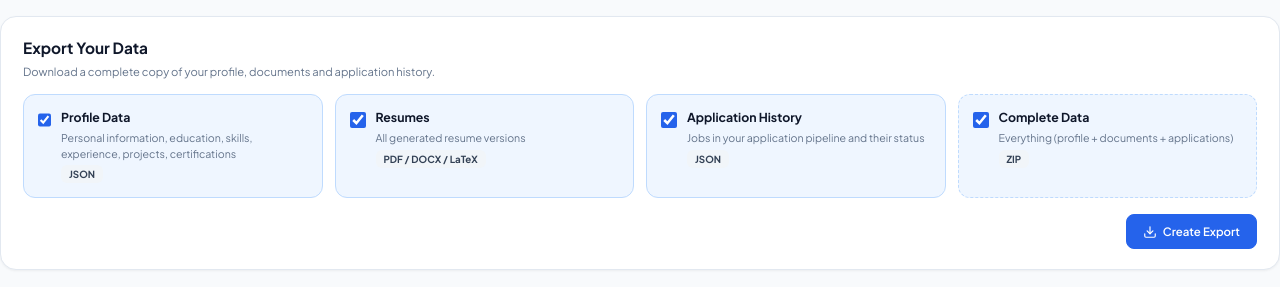
Test: DataExport › sends selected parts and pipeline applications
This screenshot has width=1280, height=287.
Click the checkbox labelled "Profile Data". click: {"x": 44, "y": 120}
box: [38,112,51,128]
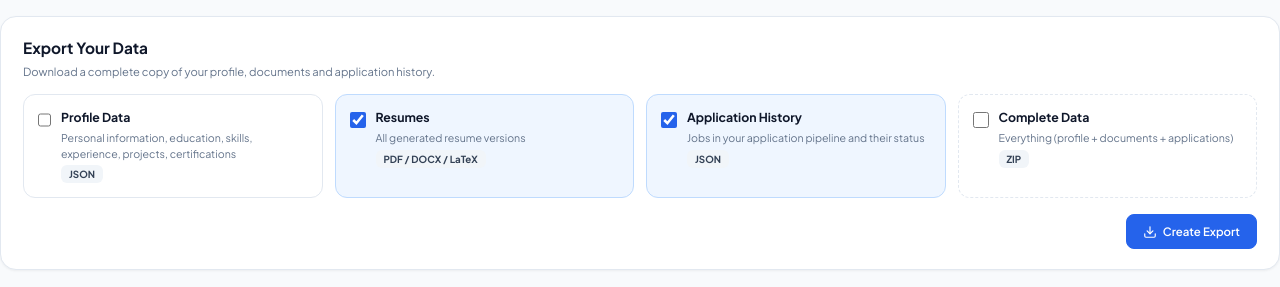
Click the button "Create Export". click: {"x": 1191, "y": 232}
box: [1126,214,1257,250]
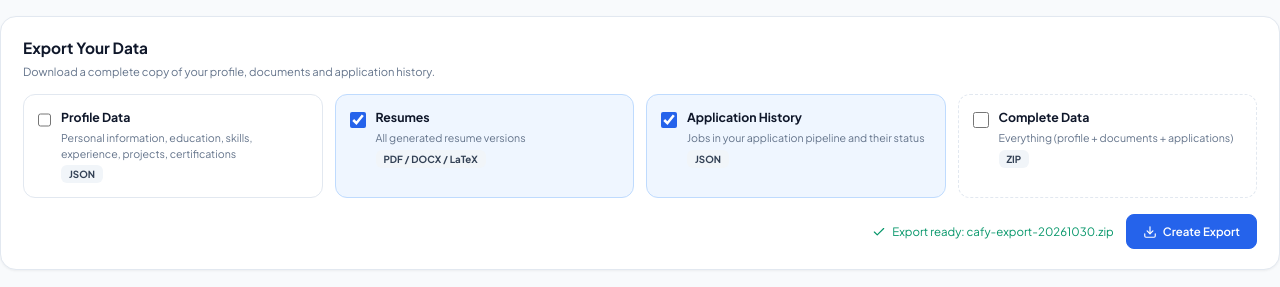
Now the text "Export ready: cafy-export-20261030.zip" is shown, box [872,224,1114,240]
